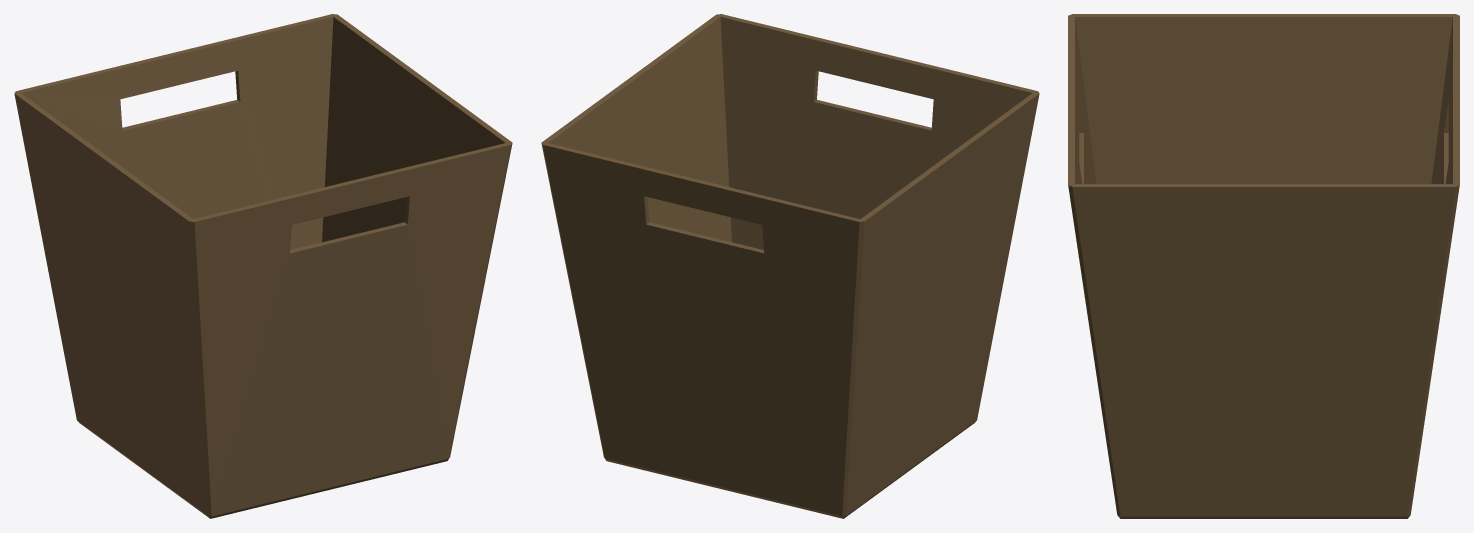
3 views of the same model, side by side, from view 1: azimuth 30°, elevation 25°; view 2: azimuth 150°, elevation 25°; view 3: azimuth 270°, elevation 25° (orthographic). The views are drawn at different scales.
Visible parts, largest first — view 1: box; view 2: box; view 3: box.
Boxes of the visible parts, box(x1,y1,x2,y2) form: box: box(14, 14, 512, 518); box: box(541, 14, 1039, 518); box: box(1068, 14, 1459, 518).
Bounding box in the file's own units: 29.24 × 28 × 27.99.
